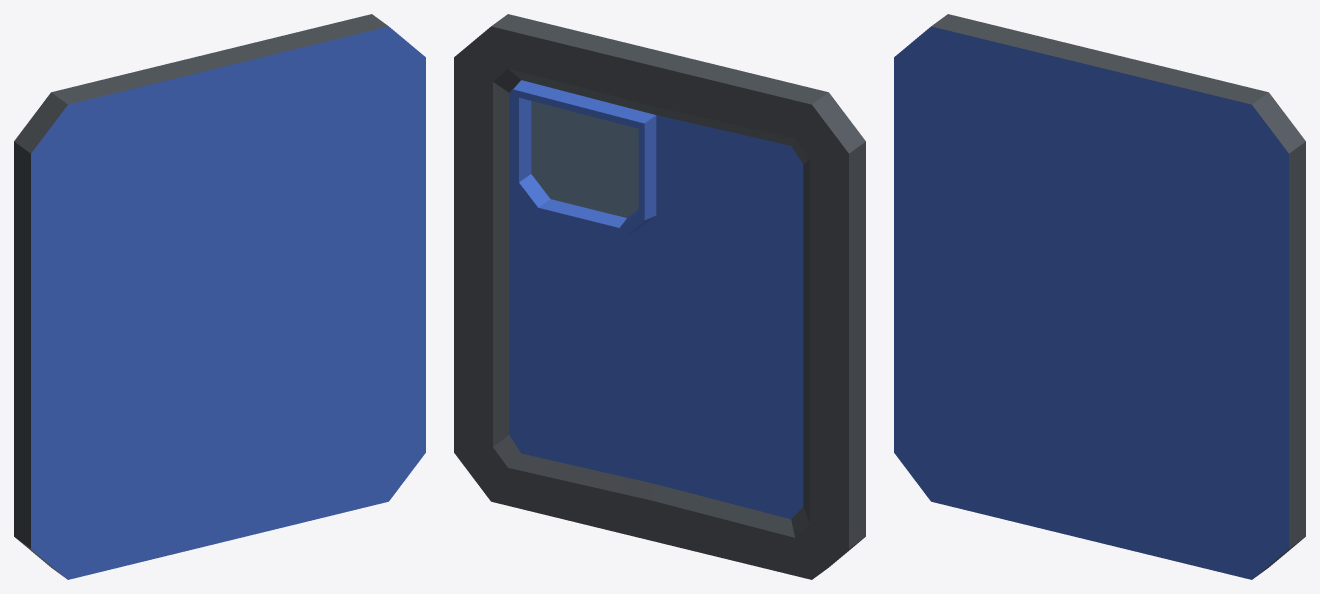
File: Mothership_01_Cargo_Door_Blue.fbx
The picture shows the model from 3 angles, left to right: view 1: azimuth 30°, elevation 25°; view 2: azimuth 150°, elevation 25°; view 3: azimuth 330°, elevation 25°; orthographic projection.
Visible parts, largest first — view 1: Mothership_01_Cargo_Door_Blue; view 2: Mothership_01_Cargo_Door_Blue; view 3: Mothership_01_Cargo_Door_Blue.
Part boxes in pixels (<box>): Mothership_01_Cargo_Door_Blue: <box>14,14,425,579</box>; Mothership_01_Cargo_Door_Blue: <box>454,14,865,579</box>; Mothership_01_Cargo_Door_Blue: <box>894,14,1305,579</box>.
Size of the model in its own units: 1289 by 1481 by 125.
2 materials, 2 textured.
